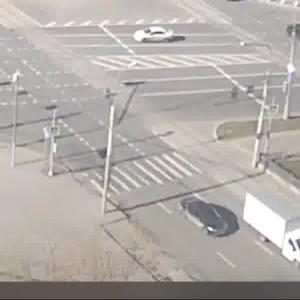car: (239, 191, 300, 264), (179, 196, 232, 242), (133, 25, 178, 51)
